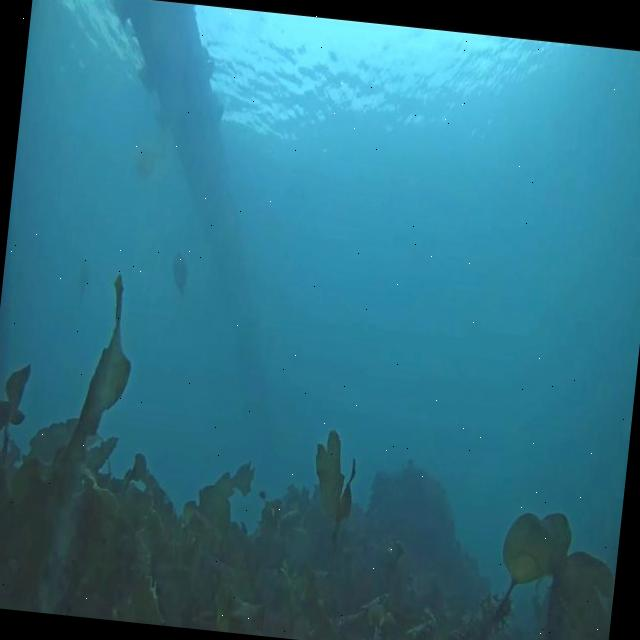fish: (167, 248, 192, 302), (74, 254, 91, 310)
